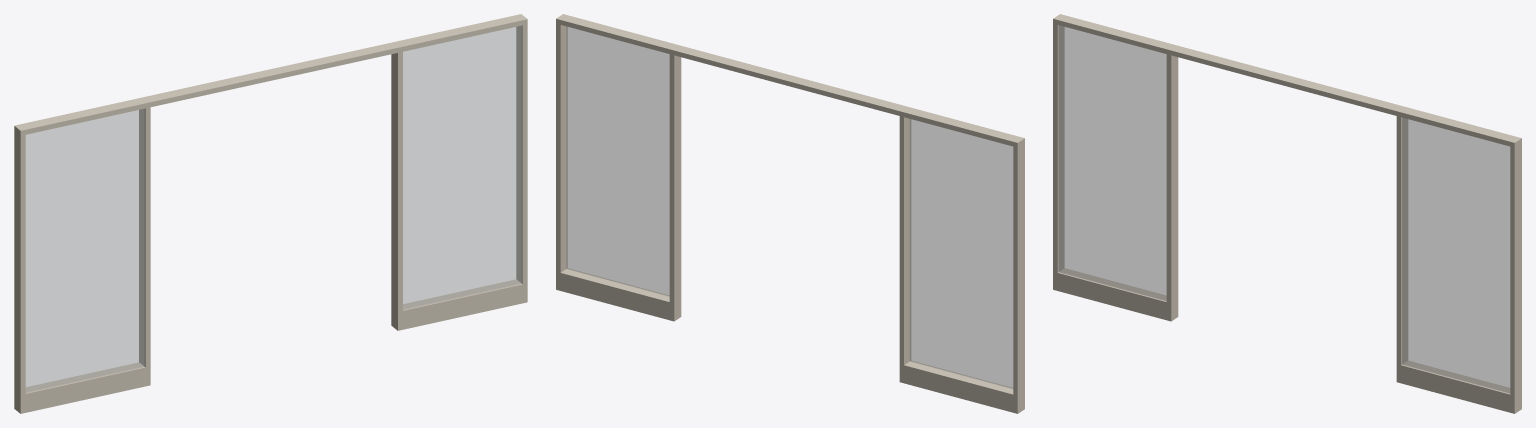
Rendered from CountourPorte.fbx.
3 renders of one model, left to right at view 1: azimuth 30°, elevation 25°; view 2: azimuth 150°, elevation 25°; view 3: azimuth 330°, elevation 25°, orthographic. The views are drawn at different scales.
Visible parts, largest first — view 1: IfcWindow/ME - 12; view 2: IfcWindow/ME - 12; view 3: IfcWindow/ME - 12.
Part boxes in pixels (box(x1,y1,x2,y2)): IfcWindow/ME - 12: box(14, 14, 527, 413); IfcWindow/ME - 12: box(556, 14, 1024, 413); IfcWindow/ME - 12: box(1053, 14, 1521, 413).
Size of the model in its own units: 410 by 224 by 27.73.
